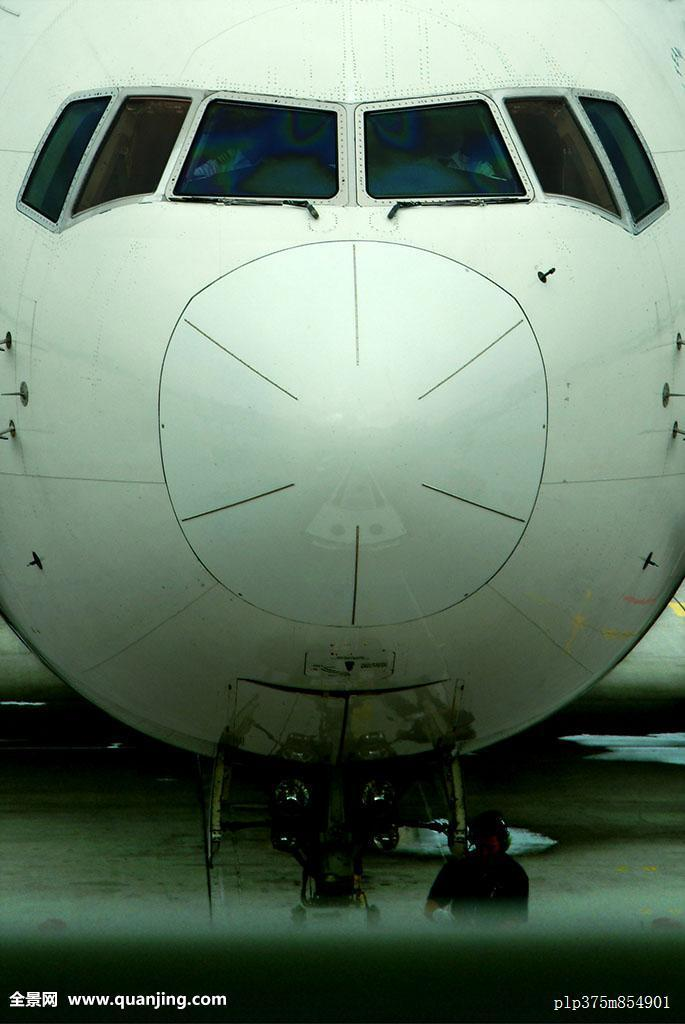airplane: (6, 1, 685, 861)
